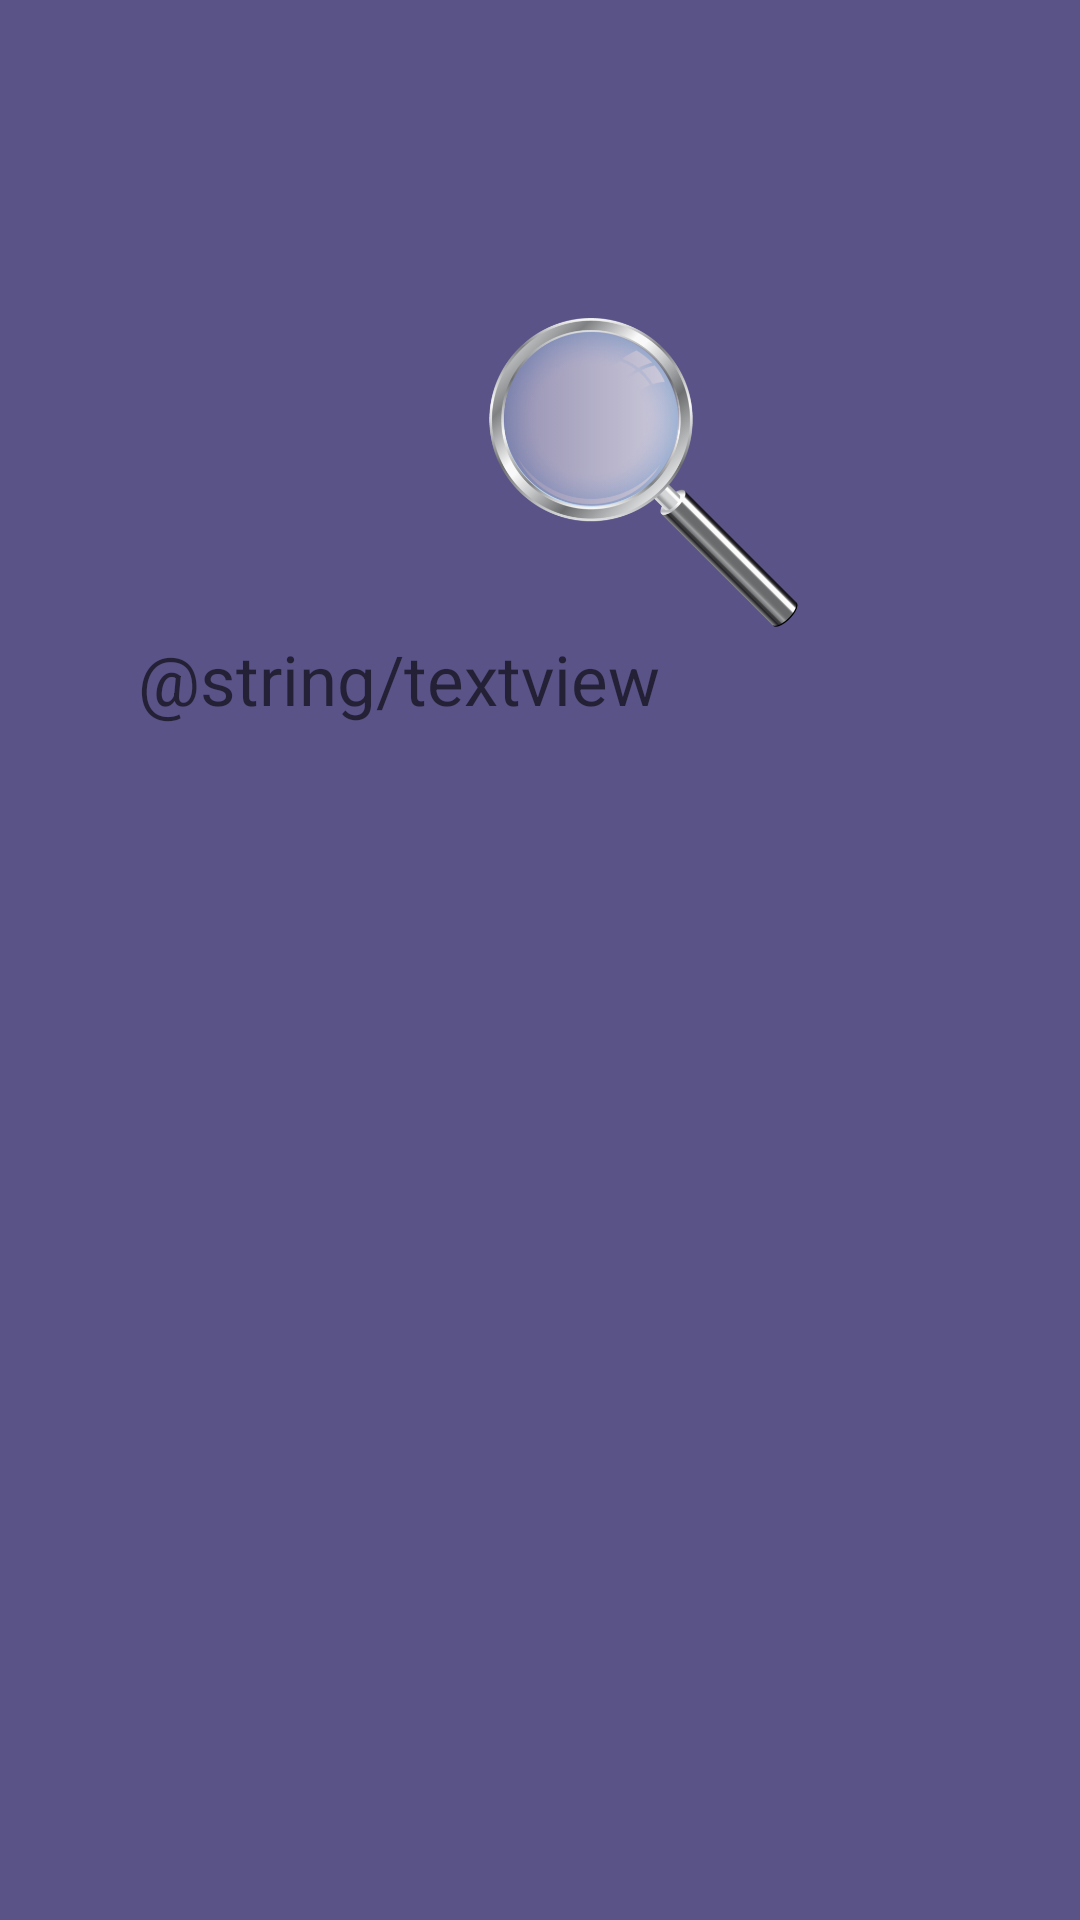

Screen size 1080x1920. Icon name, then its box in pixels as {"x1": x1, "y1": y1, "x2": x2, "y2": y2}:
lupa: {"x1": 489, "y1": 318, "x2": 798, "y2": 627}
